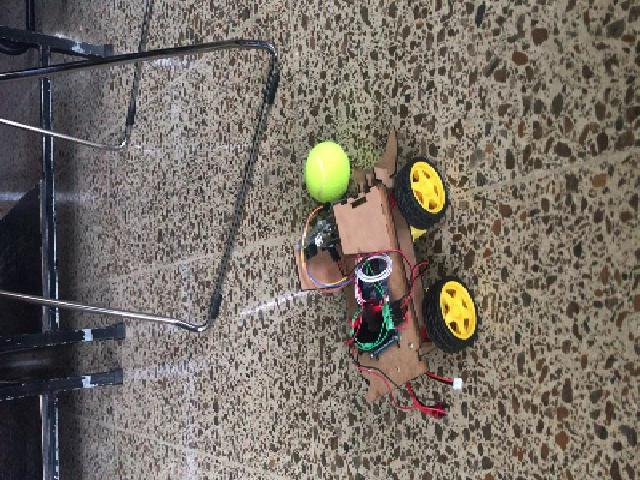Ball: (304, 140, 350, 203)
Robot: (290, 127, 478, 402)
